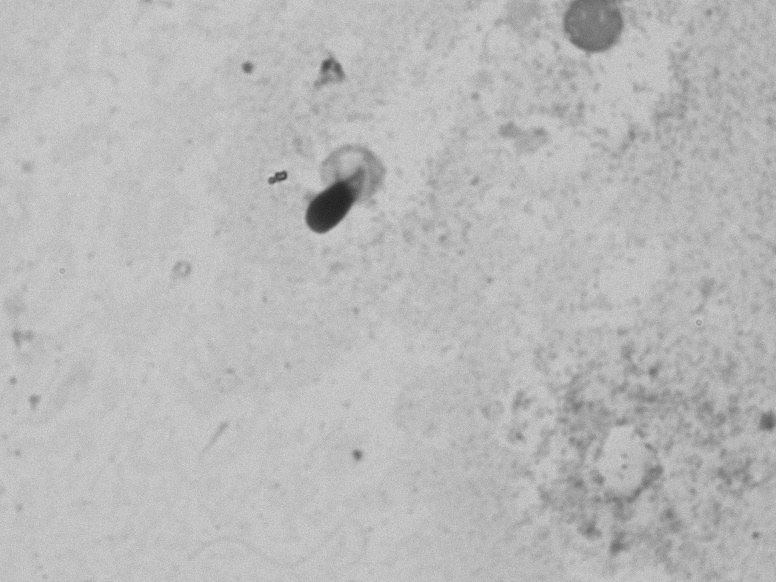Abnormal: (271, 110, 407, 286)
